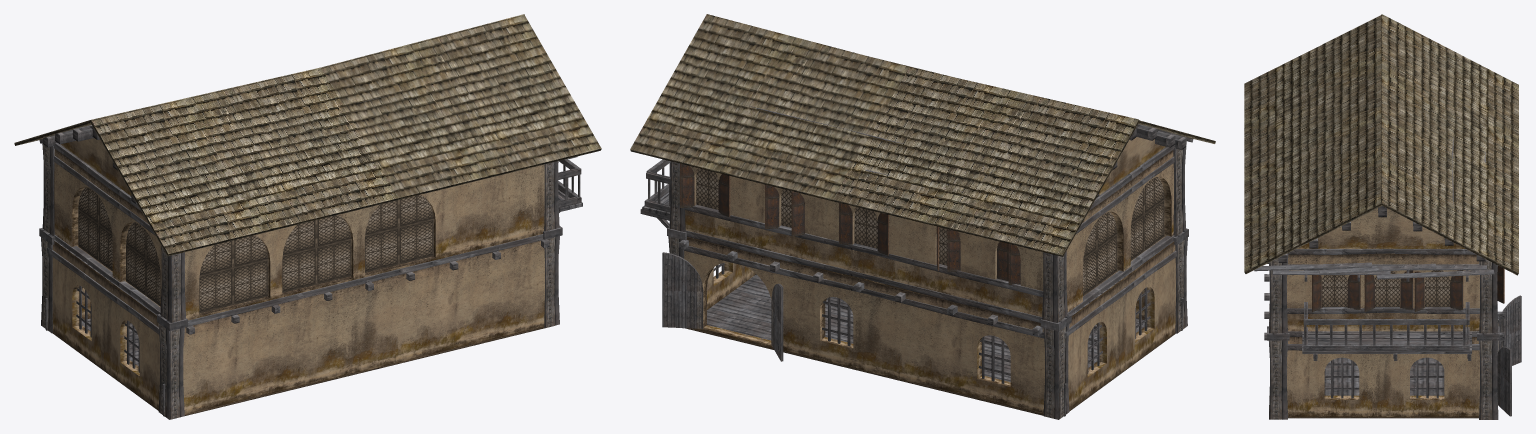
File: tavern_storage_house.dae
The picture shows the model from 3 angles, left to right: view 1: azimuth 30°, elevation 25°; view 2: azimuth 150°, elevation 25°; view 3: azimuth 270°, elevation 25°; orthographic projection. The views are drawn at different scales.
Parts seen in each view (by area): view 1: house; view 2: house; view 3: house.
Boxes of the visible parts, x1,y1,x2,y2 form: house: (14,14,601,419); house: (630,14,1215,419); house: (1244,14,1521,419).
Size of the model in its own units: 26.7 by 14.65 by 16.01.
